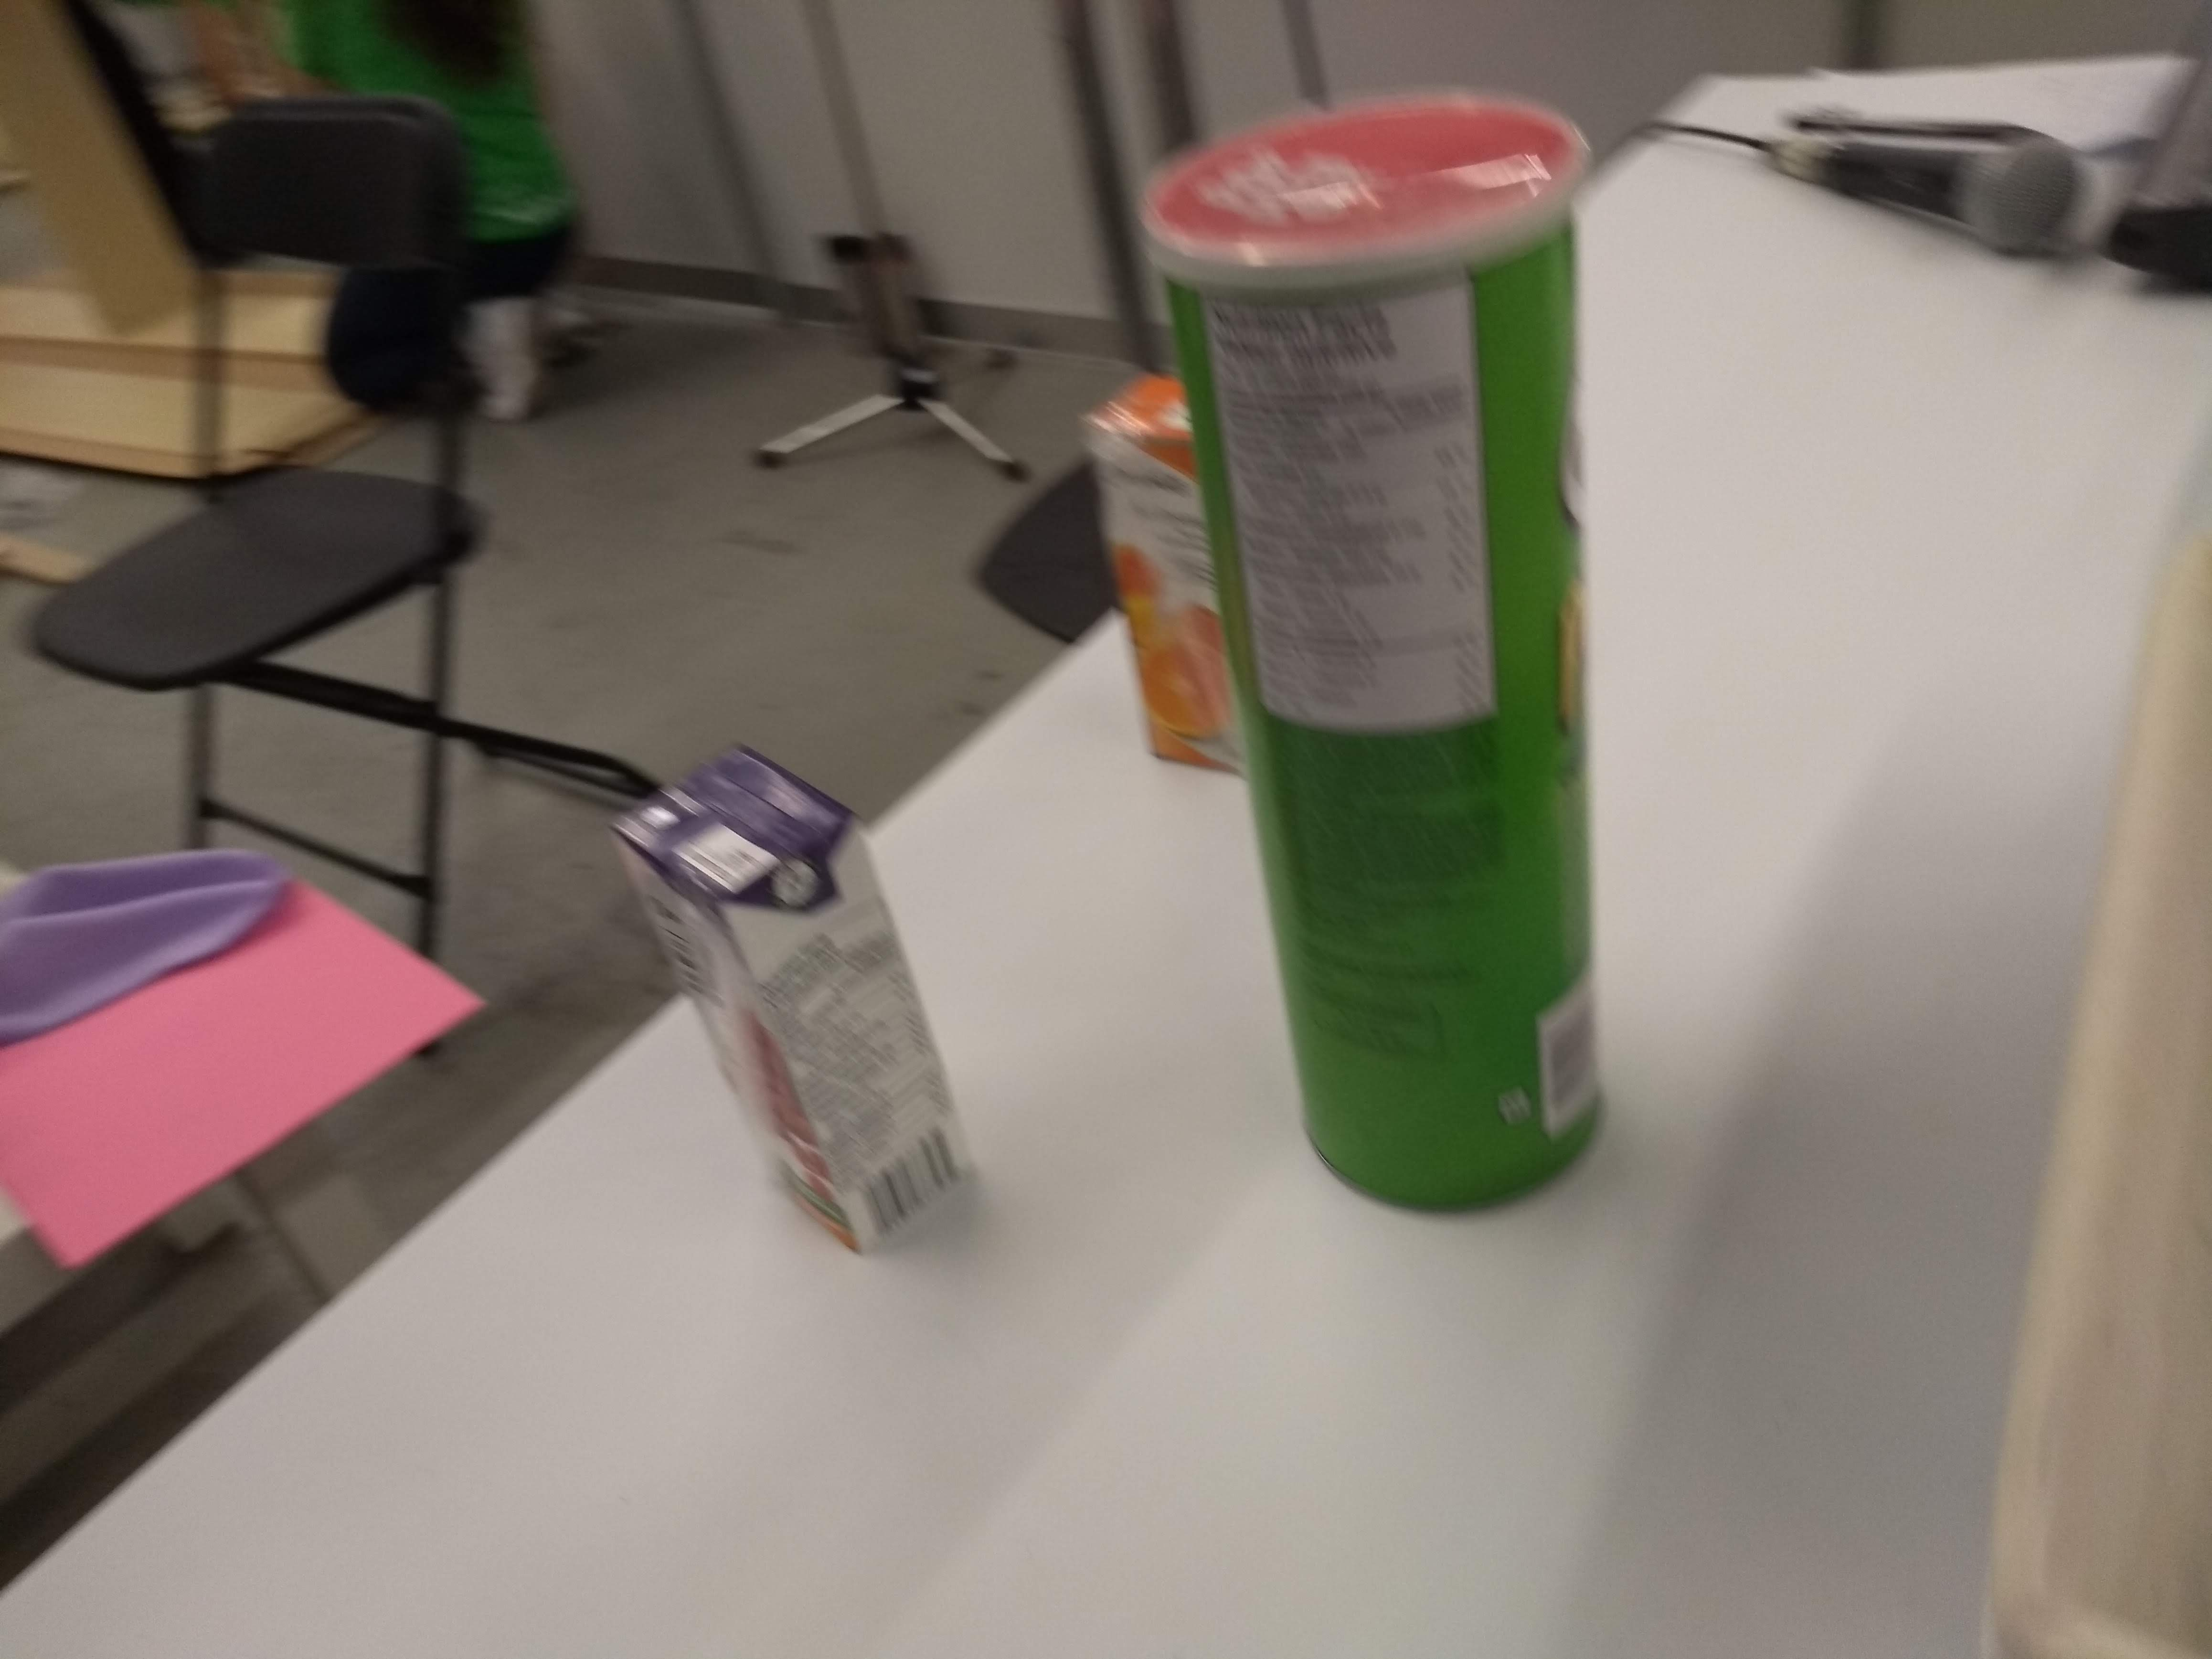grape_juice: (606, 725, 982, 1269)
pringles: (1123, 85, 1622, 1241)
